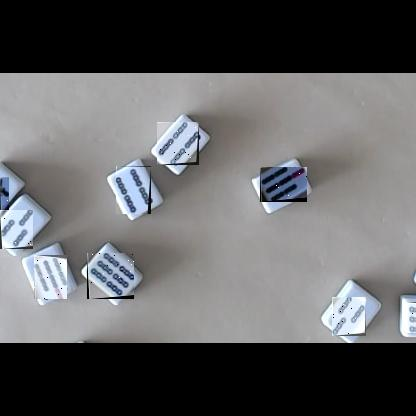1s: (0, 177, 9, 212)
3s: (332, 297, 366, 336), (0, 210, 33, 249)
4s: (157, 122, 199, 165), (116, 166, 151, 214)
6s: (87, 253, 134, 299), (404, 302, 416, 333)
7s: (260, 167, 307, 202), (34, 255, 67, 299)
